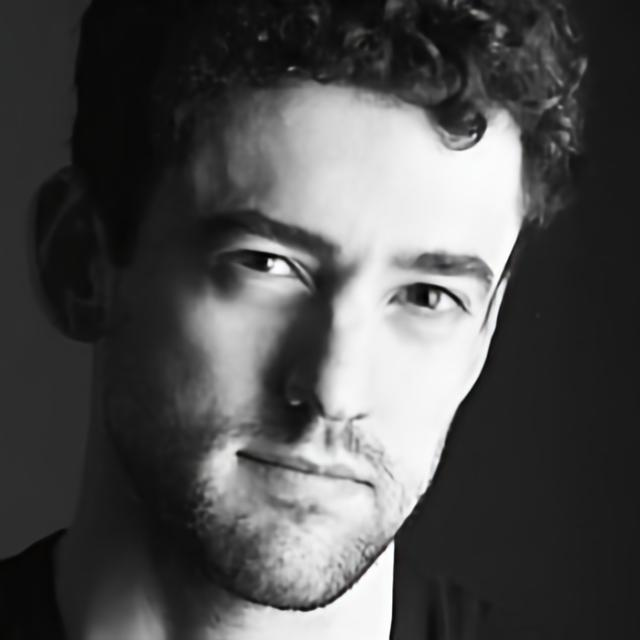neutral: (102, 84, 511, 586)
